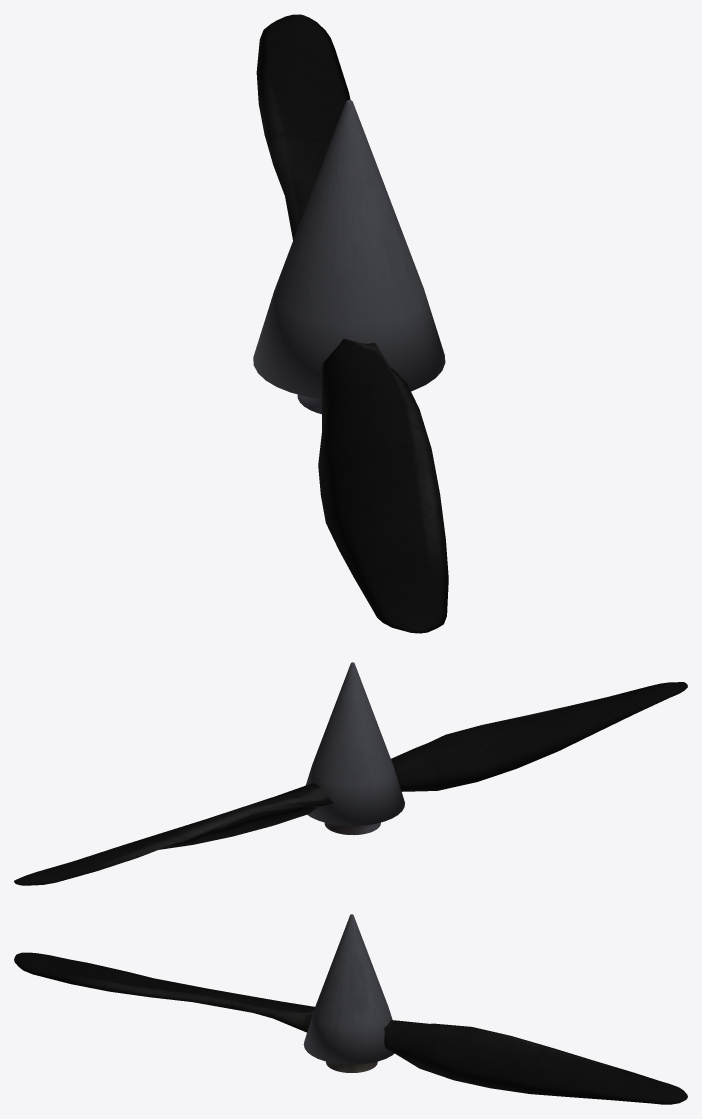
The model's file is propeller.glb.
3 views of the same model, one above another, from view 1: azimuth 30°, elevation 25°; view 2: azimuth 150°, elevation 25°; view 3: azimuth 270°, elevation 25° (orthographic). The views are drawn at different scales.
Visible parts, largest first — view 1: propeller; view 2: propeller; view 3: propeller.
Part boxes in pixels (<box>): propeller: <box>253,14,448,633</box>; propeller: <box>14,662,687,885</box>; propeller: <box>14,914,687,1104</box>.
Bounding box in the file's own units: 0.8543 × 0.4137 × 1.71.
Materials: 2 (2 with a texture image).
